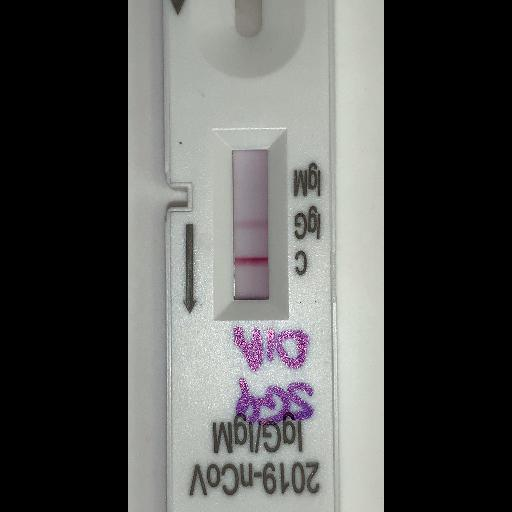Pos: (159, 0, 340, 511)
